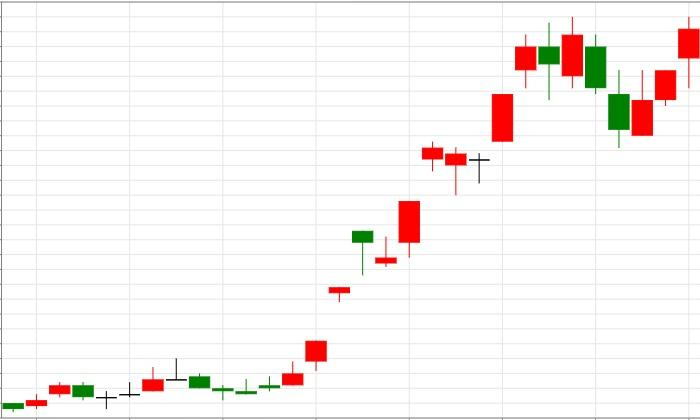three_white_soldiers_rise: (562, 16, 700, 148)
